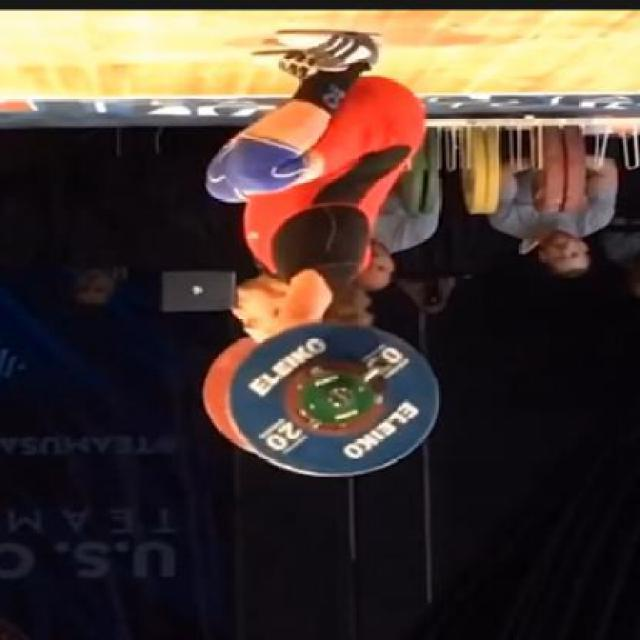Barbell: (319, 384, 361, 412)
